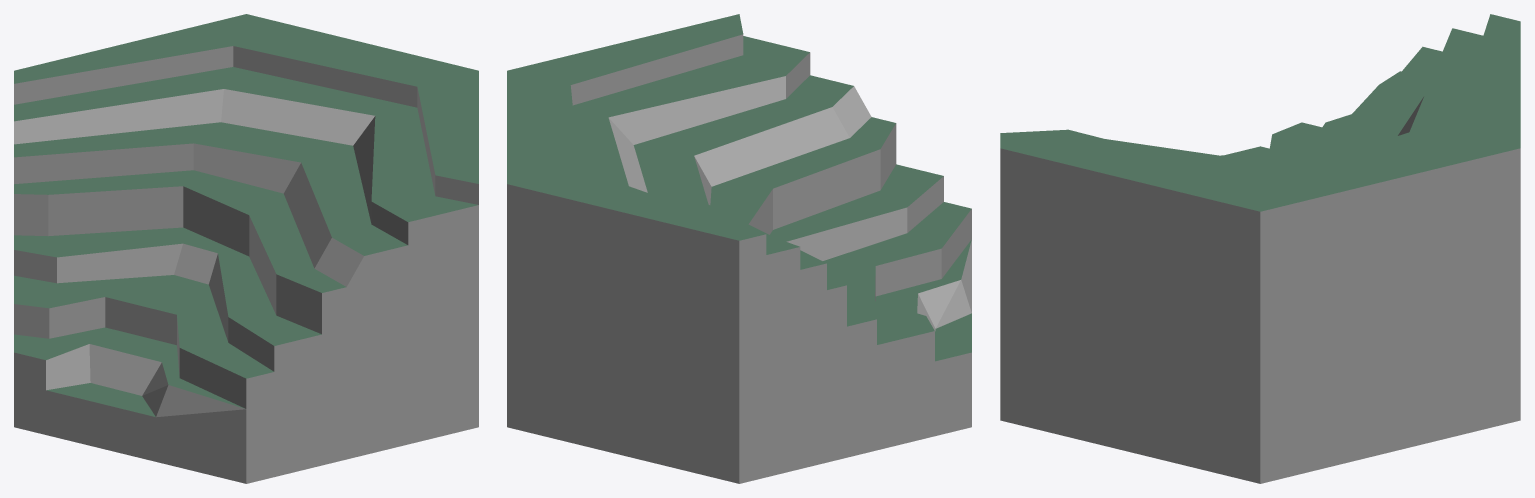
File: HexStairs01.fbx
3 views of the same model, side by side, from view 1: azimuth 30°, elevation 25°; view 2: azimuth 150°, elevation 25°; view 3: azimuth 270°, elevation 25° (orthographic). The views are drawn at different scales.
Visible parts, largest first — view 1: HexStairs01; view 2: HexStairs01; view 3: HexStairs01.
Part boxes in pixels (left/top/right/bottom): HexStairs01: left=14, top=14, right=478, bottom=483; HexStairs01: left=507, top=14, right=971, bottom=483; HexStairs01: left=1000, top=14, right=1520, bottom=483.
Size of the model in its own units: 2 by 1 by 1.73.
